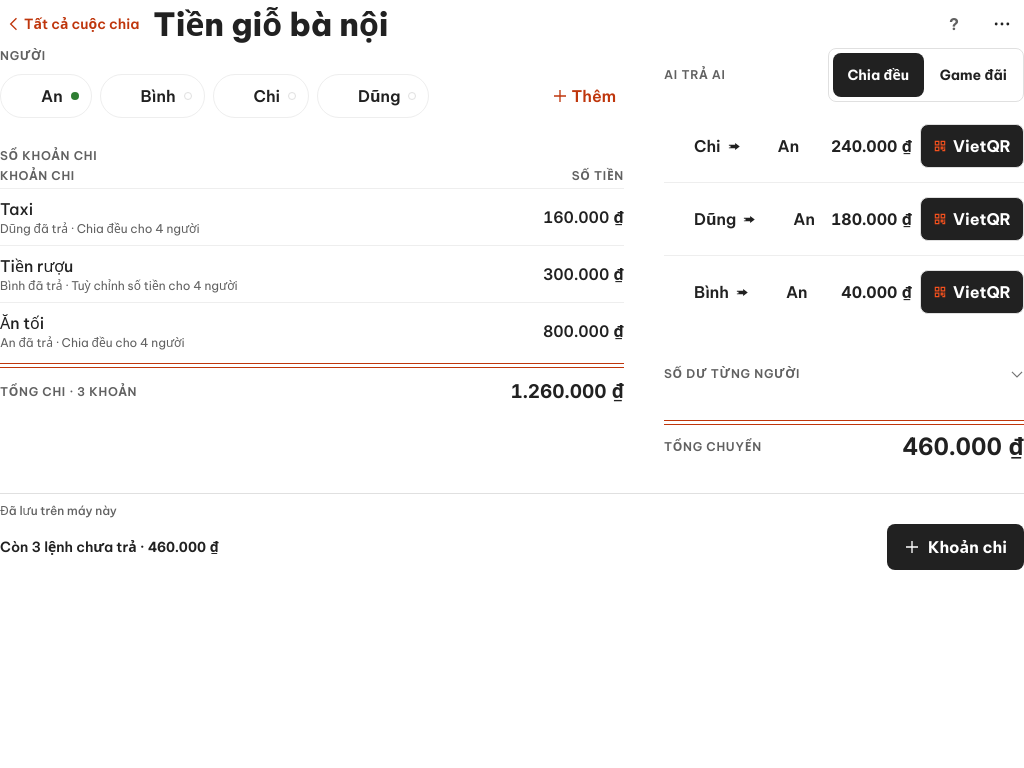
Scenario: điều kiện bật/tắt §3 › phiên tên tĩnh: menu ⋯ KHÔNG còn công tắc phiếu nào (Q1 gỡ hẳn lớp phiếu thường trực cho mọi phiên)
The image size is (1024, 768).
Click the button named "Hành động của cuộc chia".
click(1002, 24)  # box x1=980 y1=2 x2=1023 y2=46
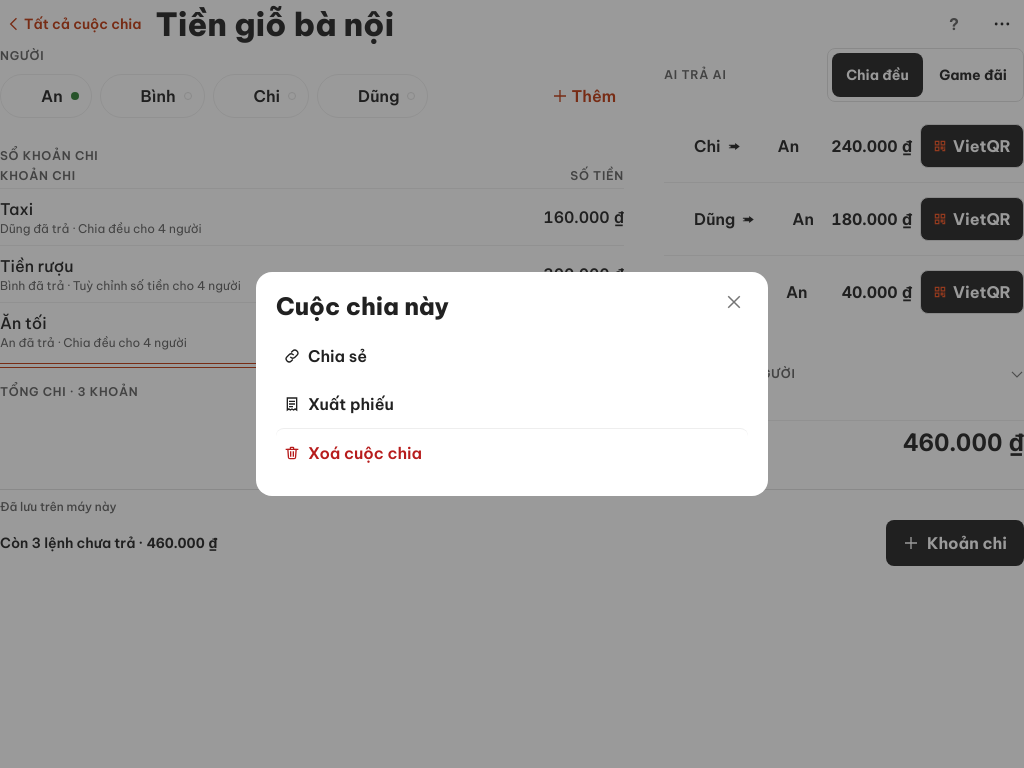
Result: the button "Xuất phiếu" is shown at x1=276 y1=380 x2=748 y2=428
